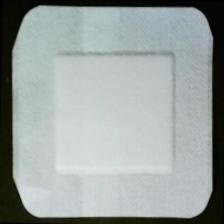Dressing: (9, 3, 219, 222)
